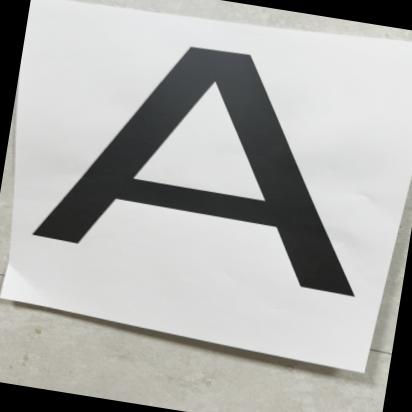seat: (1, 7, 404, 331)
